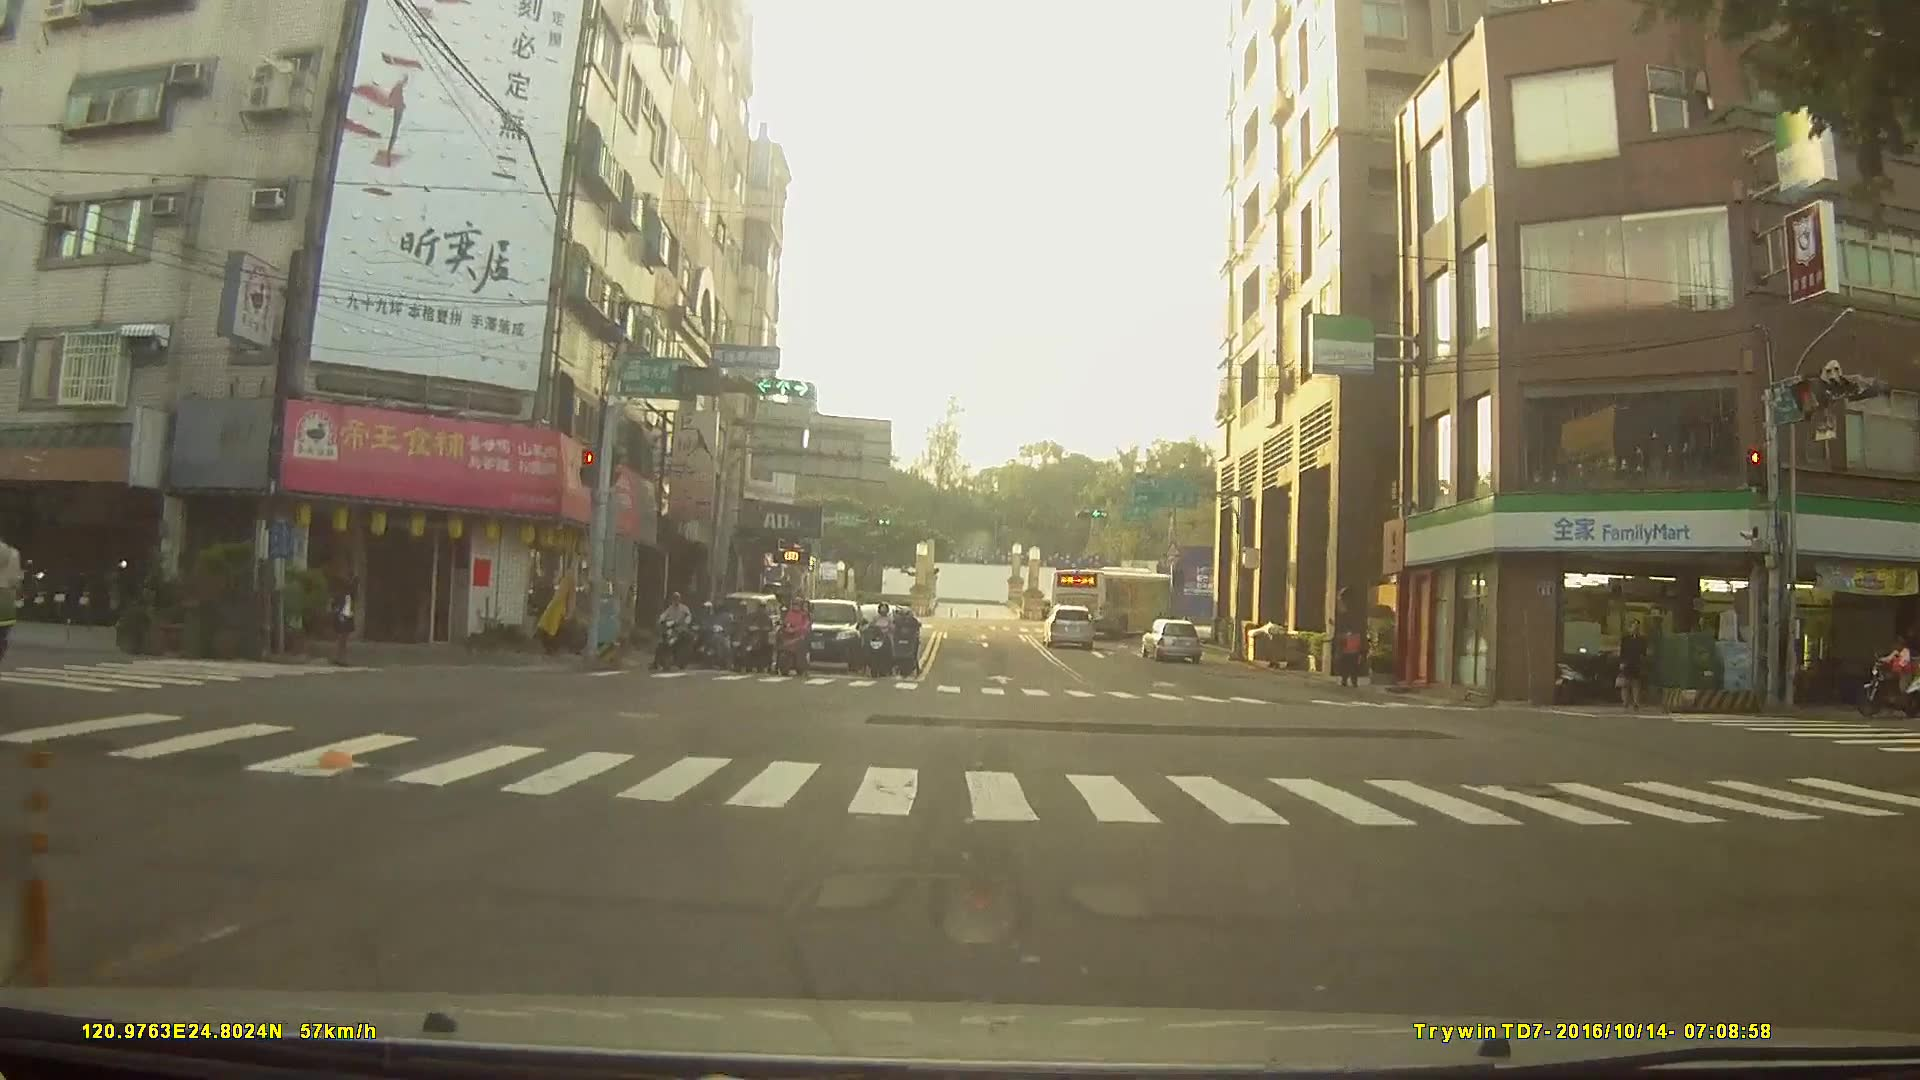pedestrian: (1, 514, 28, 693), (1615, 621, 1650, 710), (328, 581, 362, 669), (1336, 627, 1367, 692)
rider: (1855, 633, 1920, 713), (777, 594, 816, 682), (658, 589, 696, 675), (888, 600, 927, 676), (741, 601, 776, 675), (870, 604, 902, 681), (700, 598, 733, 666), (1900, 635, 1920, 719)
vehicle: (1050, 564, 1177, 637), (786, 595, 866, 669), (1137, 616, 1203, 661), (1043, 599, 1098, 646)
